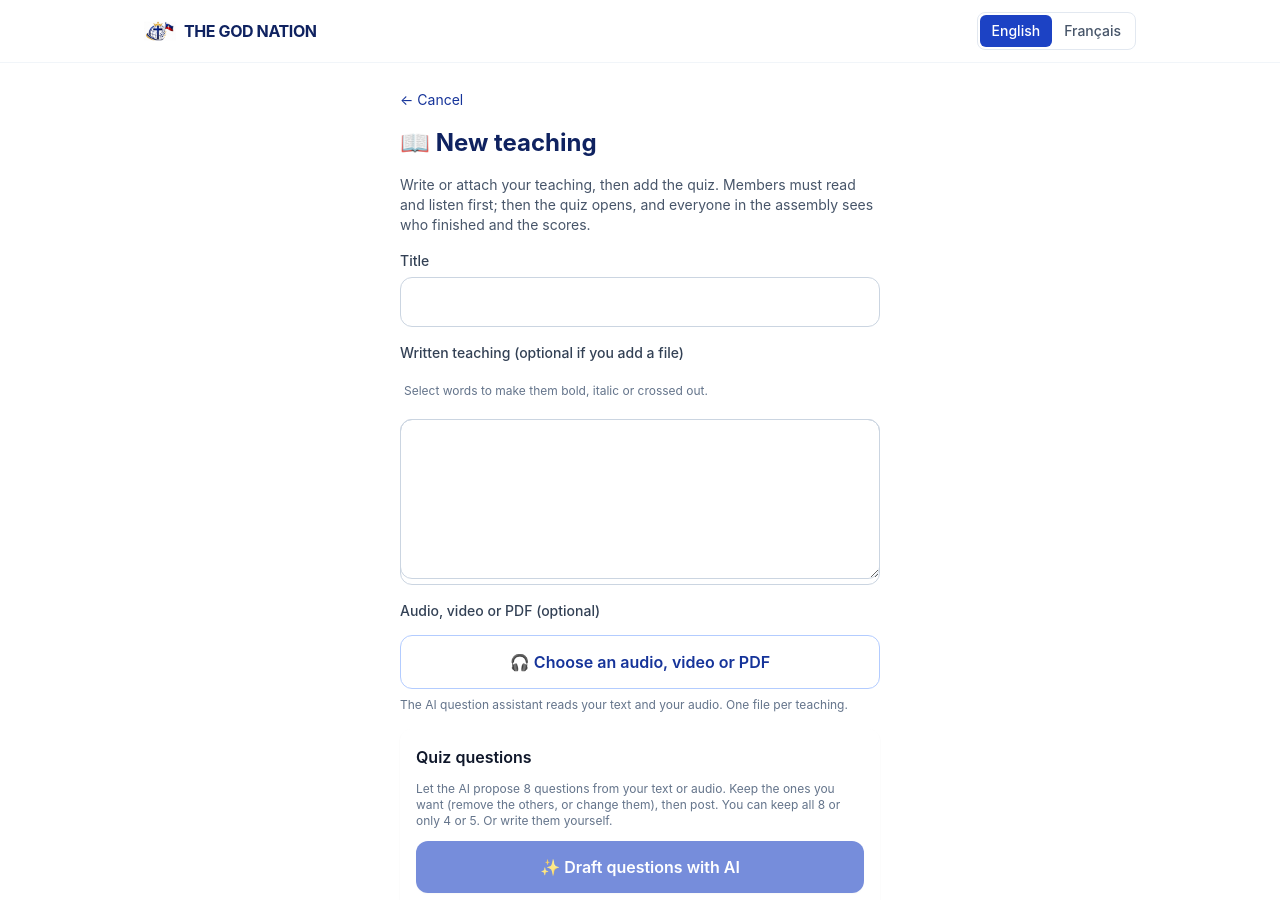
Test: Posting a teaching › shows the assistant’s reason when drafting is not possible, and keeps manual questions
The image size is (1280, 900).
In the text box labelled "Written teaching (optional if you add a file)": (640, 499) [400,419,880,579], type "Some text"
(page scrolled)
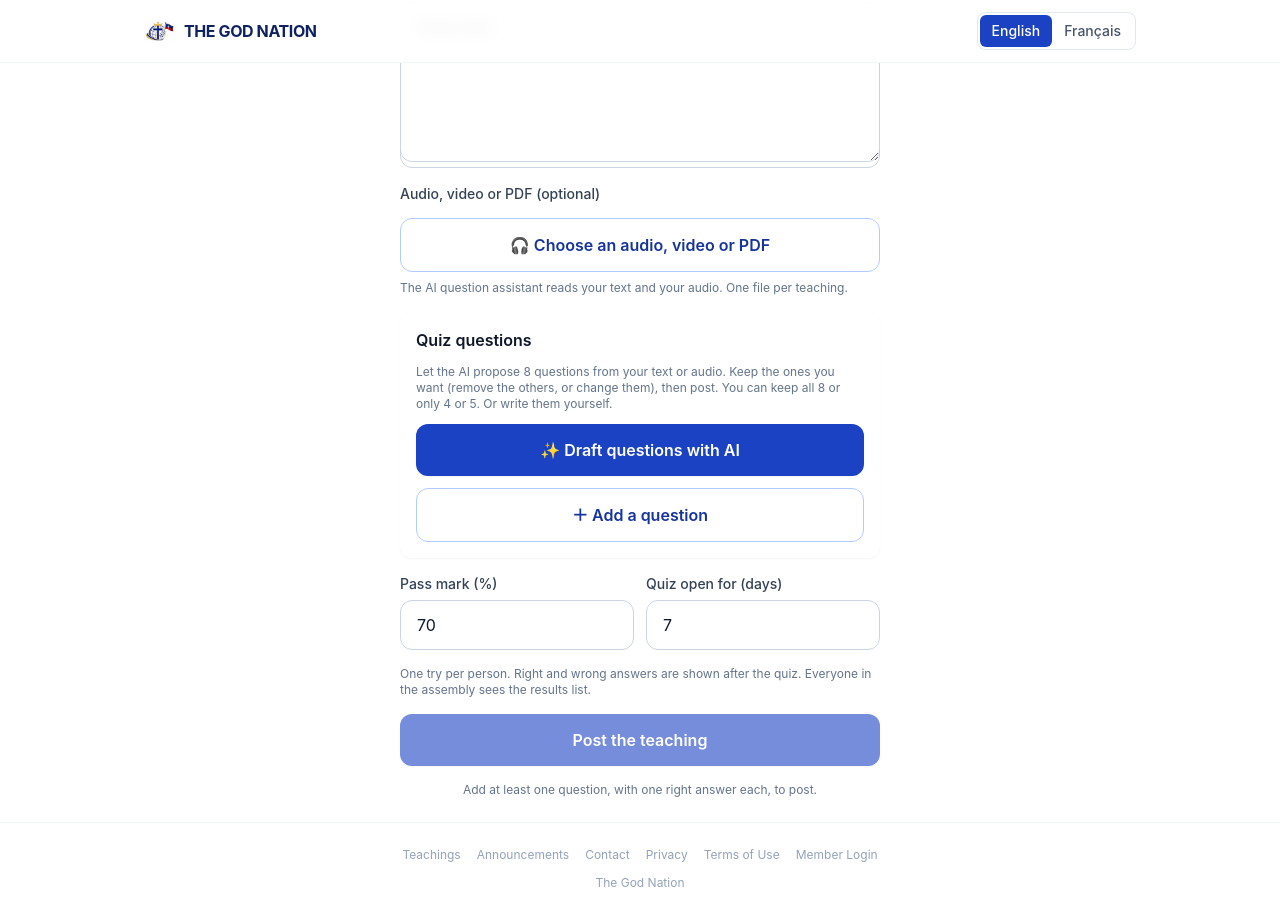
Click the button "✨ Draft questions with AI": (640, 450) [416,424,864,476]
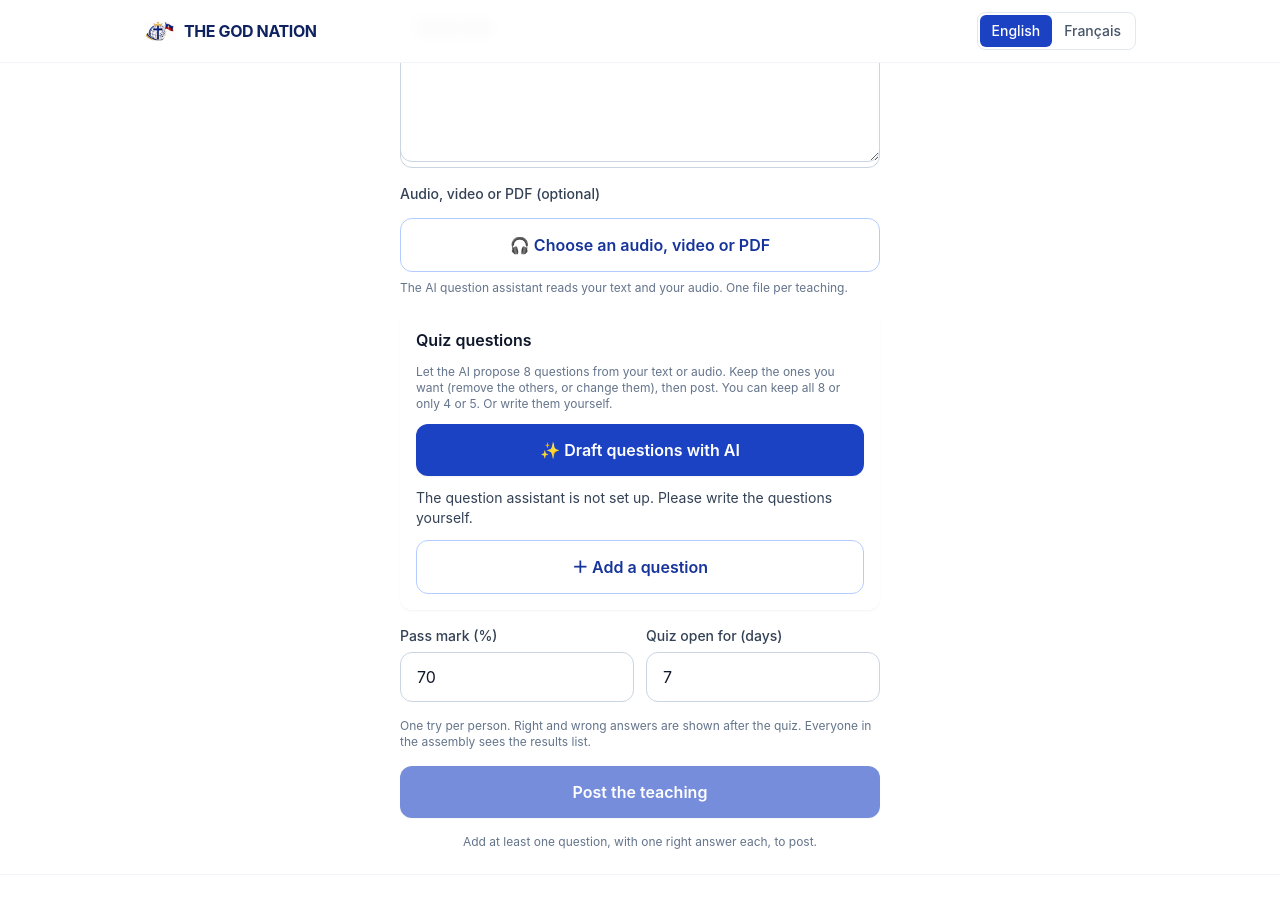
Result: the text "The question assistant is not set up. Please write the questions yourself." is shown at [416,488,864,528]
Click the button "＋ Add a question": (640, 567) [416,540,864,594]
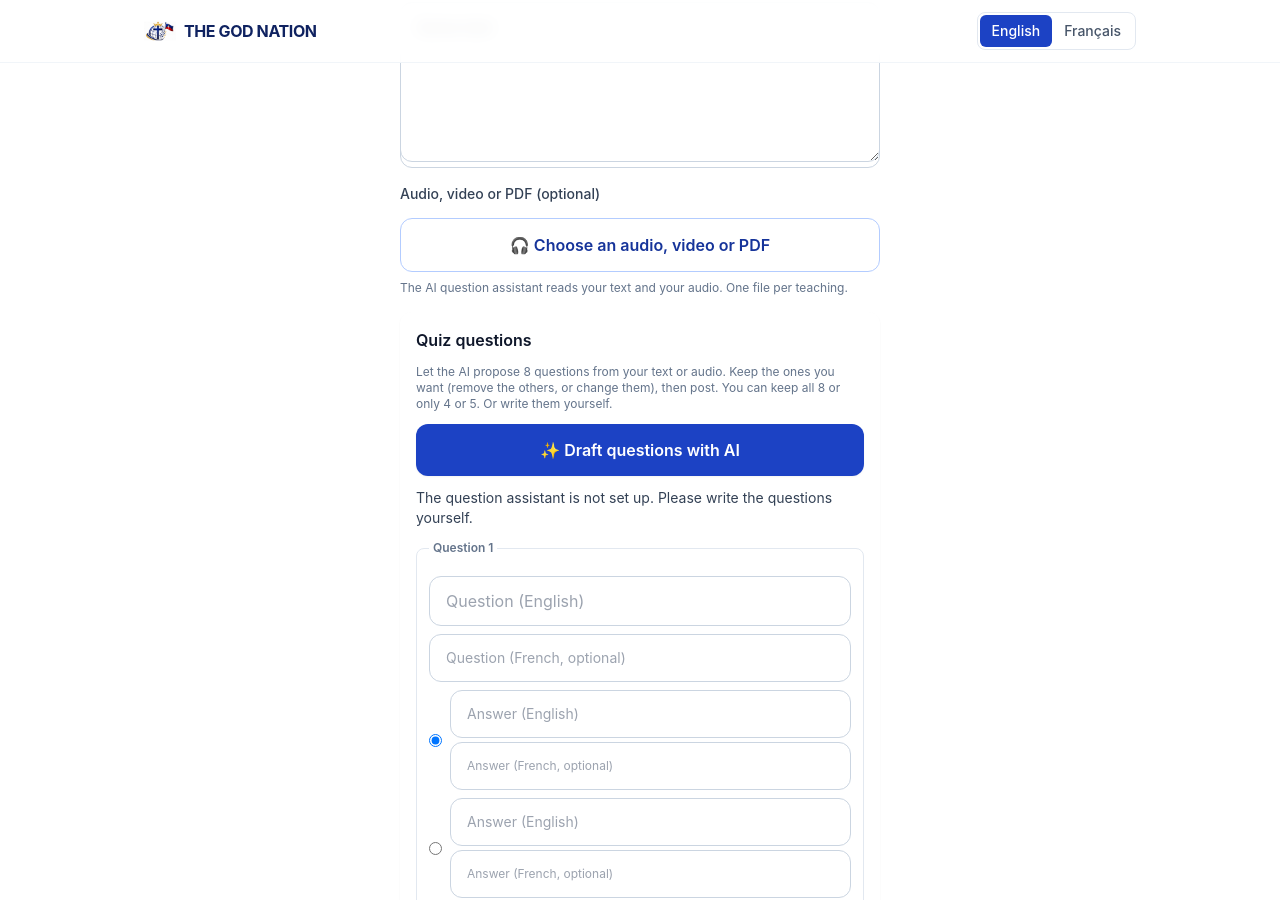
Result: the number of radio buttons is 3
